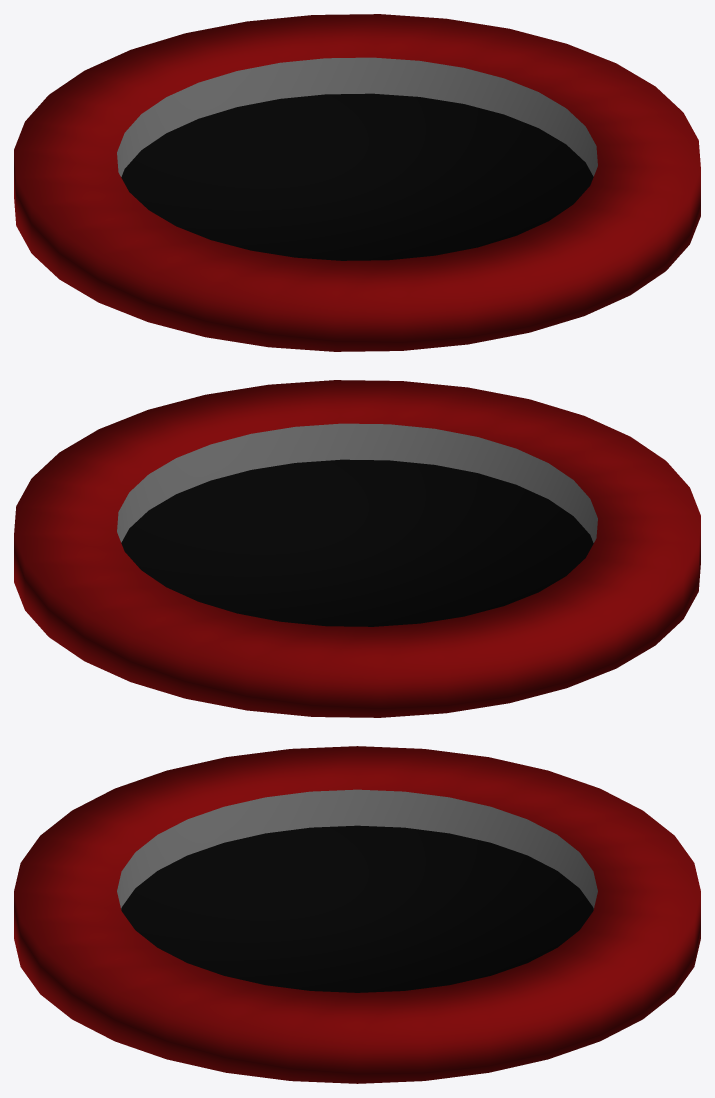
File: activator.fbx
The picture shows the model from 3 angles, top to bottom: view 1: azimuth 30°, elevation 25°; view 2: azimuth 150°, elevation 25°; view 3: azimuth 270°, elevation 25°; orthographic projection.
Parts seen in each view (by area): view 1: Circle; view 2: Circle; view 3: Circle.
Part boxes in pixels (<box>): Circle: <box>14,14,700,351</box>; Circle: <box>14,380,700,717</box>; Circle: <box>14,746,700,1083</box>.
Bounding box in the file's own units: 200 × 15.23 × 200.
